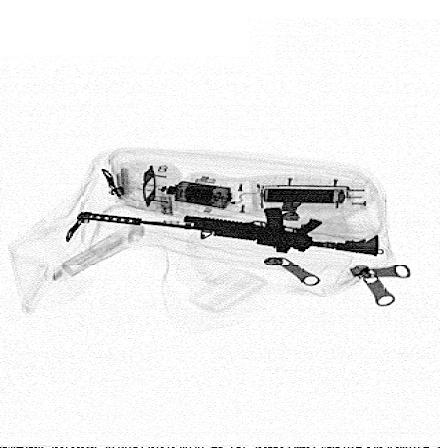Gun: (76, 206, 378, 258)
